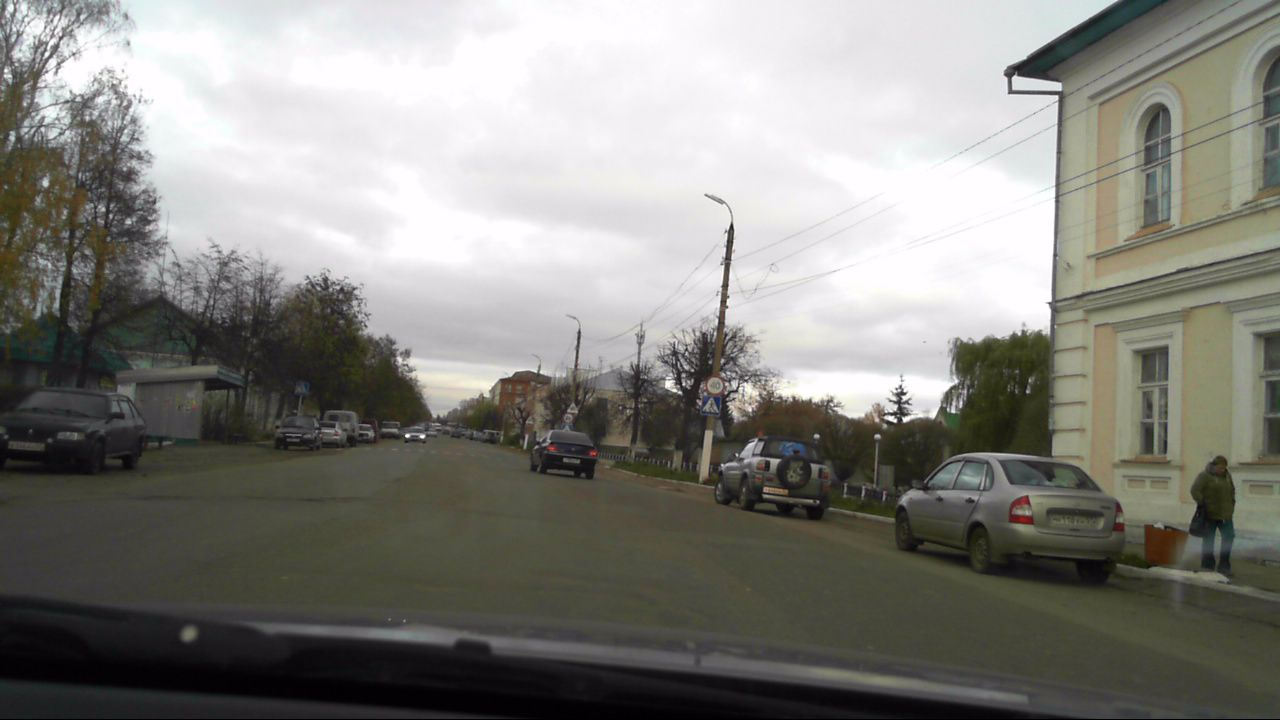speed_warning_40: (705, 377, 724, 395)
